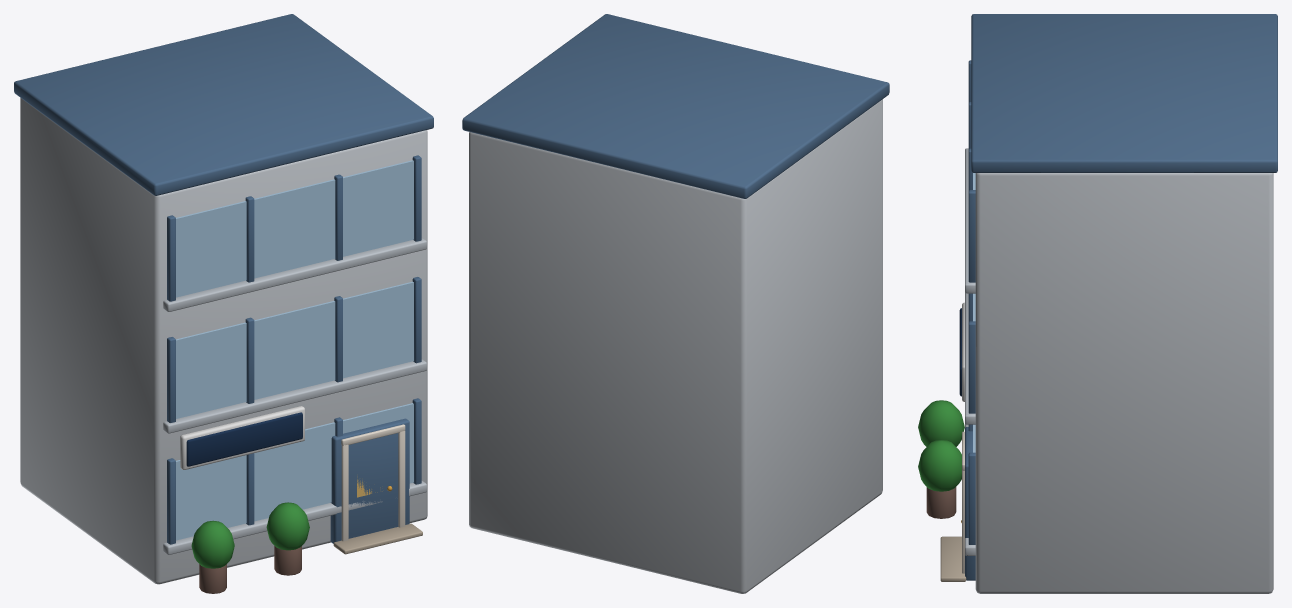
Rendered from bld_office.glb.
3 views of the same model, side by side, from view 1: azimuth 30°, elevation 25°; view 2: azimuth 150°, elevation 25°; view 3: azimuth 270°, elevation 25° (orthographic). The views are drawn at different scales.
Parts seen in each view (by area): view 1: bld_office, Glass_bld_office; view 2: bld_office; view 3: bld_office.
Part boxes in pixels (<box>): bld_office: <box>14,14,433,593</box>; Glass_bld_office: <box>176,160,413,540</box>; bld_office: <box>462,14,889,593</box>; bld_office: <box>918,14,1277,593</box>.
Size of the model in its own units: 8.2 by 11.32 by 8.45.
